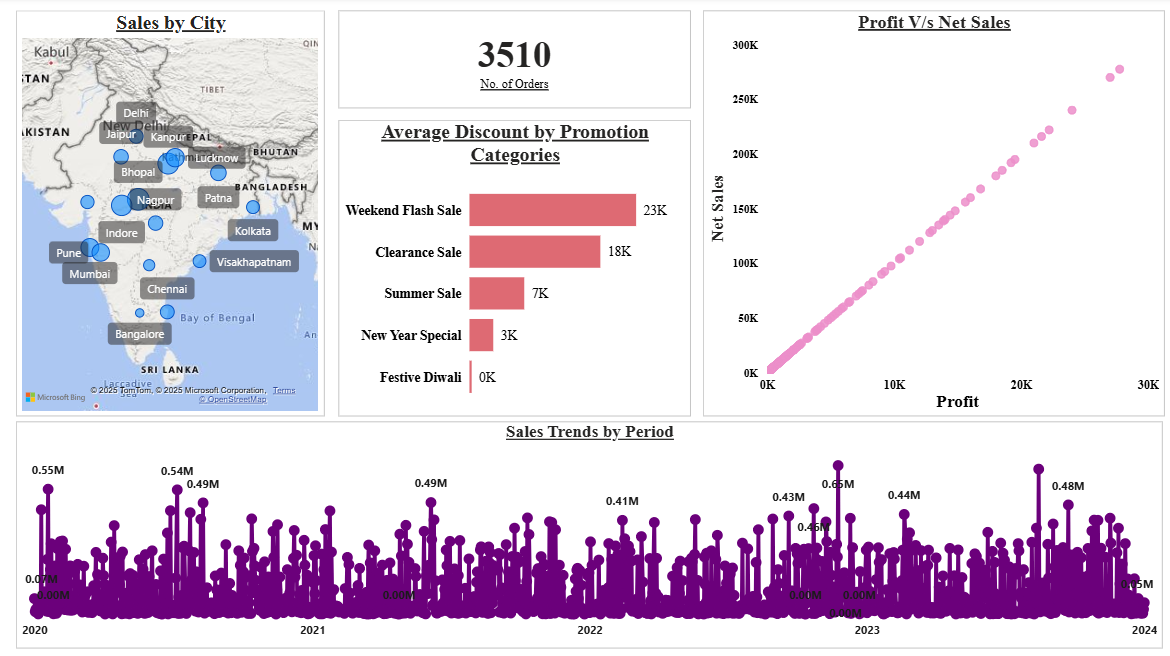

The page's visual inventory and layout, read from the dashboard file:
{"tool":"powerbi","page":{"name":"Overview","canvas":[1280,720],"ordinal":0},"visuals":[{"type":"lineChart","title":"Sales Trends by Period","fields":{"Y":["Sum(Fact Table.Net Sales  )"],"Category":["Fact Table.Date (dd/mm/yyyy).Variation.Date Hierarchy.Year"]},"box":[22.7,461.1,1243.5,245.7],"z":0},{"type":"scatterChart","title":"Profit V/s Net Sales  ","fields":{"X":["Fact Table.Profit"],"Y":["Fact Table.Net Sales  "]},"box":[767.2,15.1,500.8,440.3],"z":1000},{"type":"barChart","title":"Average Discount by Promotion Categories","fields":{"Y":["Avg(Fact Table.Discount Val)"],"Category":["Dim Promotion.Promotion Name"]},"box":[372.3,134.2,381.7,321.3],"z":2000},{"type":"map","title":"Sales by City","fields":{"Category":["Dim Customers.City"],"Size":["Sum(Fact Table.Net Sales  )"]},"box":[22.7,15.1,334.5,440.3],"z":3000},{"type":"card","fields":{"Values":["Count(Fact Table.OrderID)"]},"box":[372.3,15.1,381.7,105.8],"z":4000}]}

Visuals, with their boxes in screenshot pixels (x1, y1, x2, y2), scaled from the page's 1280x720 canvas onto the 1170x656 screenshot:
"Sales Trends by Period" lineChart: 21:420:1157:644
"Profit V/s Net Sales  " scatterChart: 701:14:1159:415
"Average Discount by Promotion Categories" barChart: 340:122:689:415
"Sales by City" map: 21:14:327:415
card - Count(Fact Table.OrderID): 340:14:689:110
